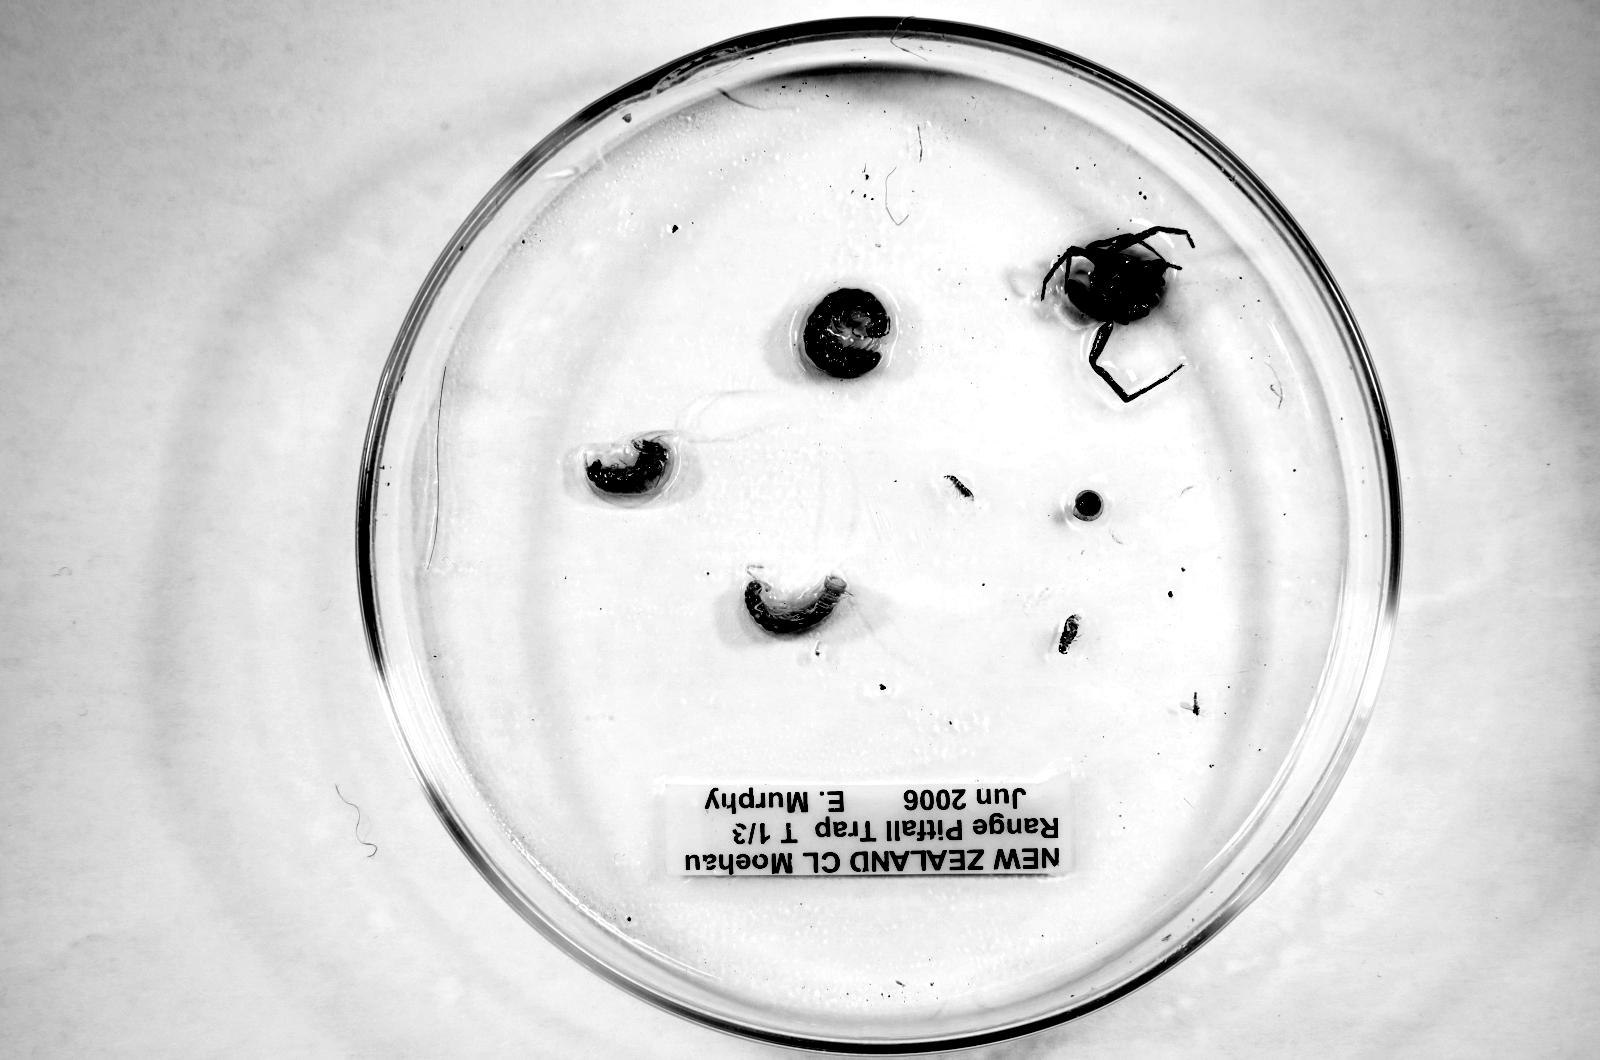amphipoda: (581, 433, 675, 505)
araneae: (1041, 227, 1192, 402)
collembola: (1057, 615, 1080, 654), (945, 474, 973, 500)
diplopoda: (804, 289, 889, 376), (745, 570, 847, 633)
diptera: (1180, 692, 1200, 716)
gastropoda: (1073, 490, 1103, 521)
